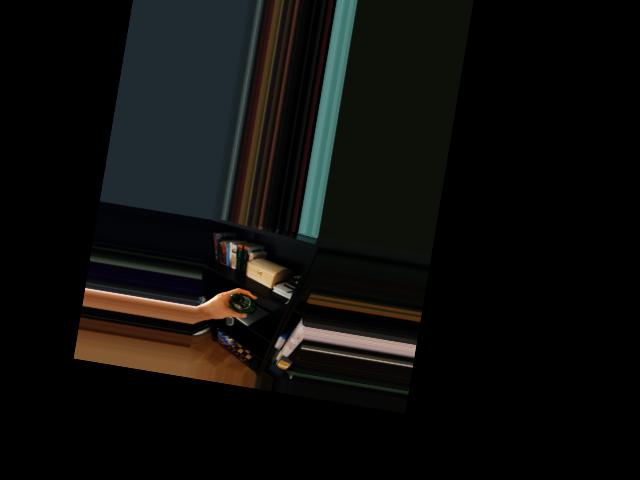beer: (227, 293, 258, 316)
